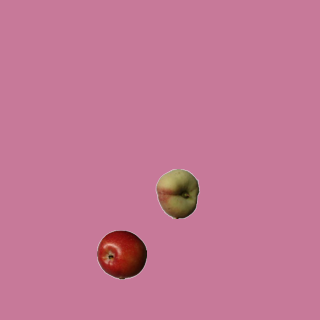Apple Braeburn: (96, 229, 146, 279)
Peach Flat: (152, 168, 202, 218)
